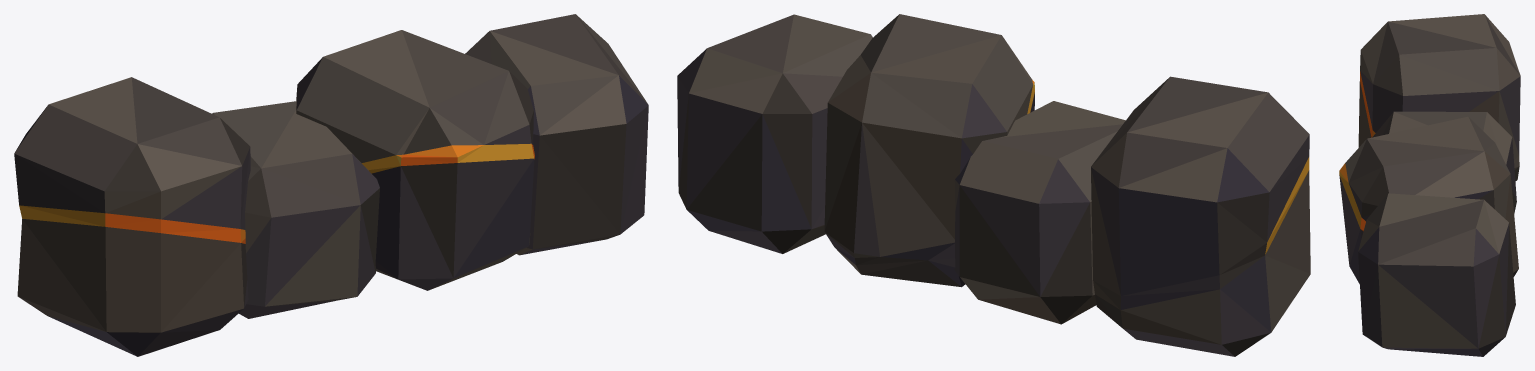
File: mine-lava-rock-3.glb
The picture shows the model from 3 angles, left to right: view 1: azimuth 30°, elevation 25°; view 2: azimuth 150°, elevation 25°; view 3: azimuth 270°, elevation 25°; orthographic projection. The views are drawn at different scales.
Parts seen in each view (by area): view 1: MineLavaRock3; view 2: MineLavaRock3; view 3: MineLavaRock3.
Boxes of the visible parts, x1,y1,x2,y2 form: MineLavaRock3: [14, 14, 648, 356]; MineLavaRock3: [677, 14, 1310, 356]; MineLavaRock3: [1339, 14, 1520, 356].
Size of the model in its own units: 3.45 by 1.17 by 1.23.
